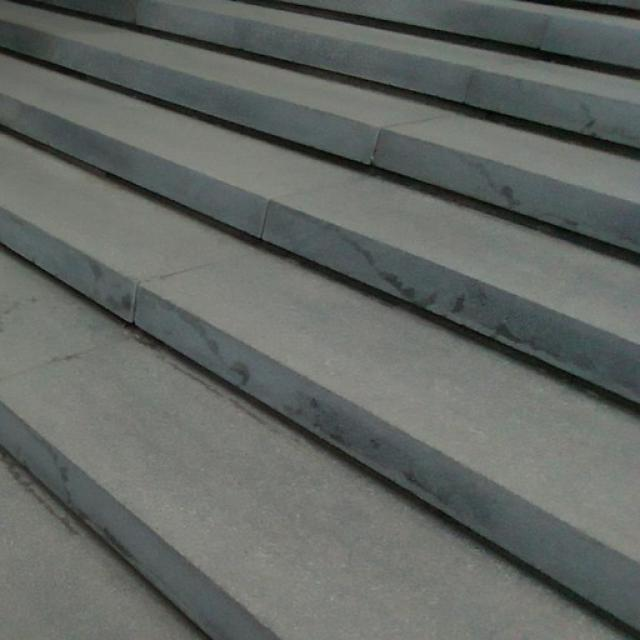stair: (9, 0, 640, 611)
